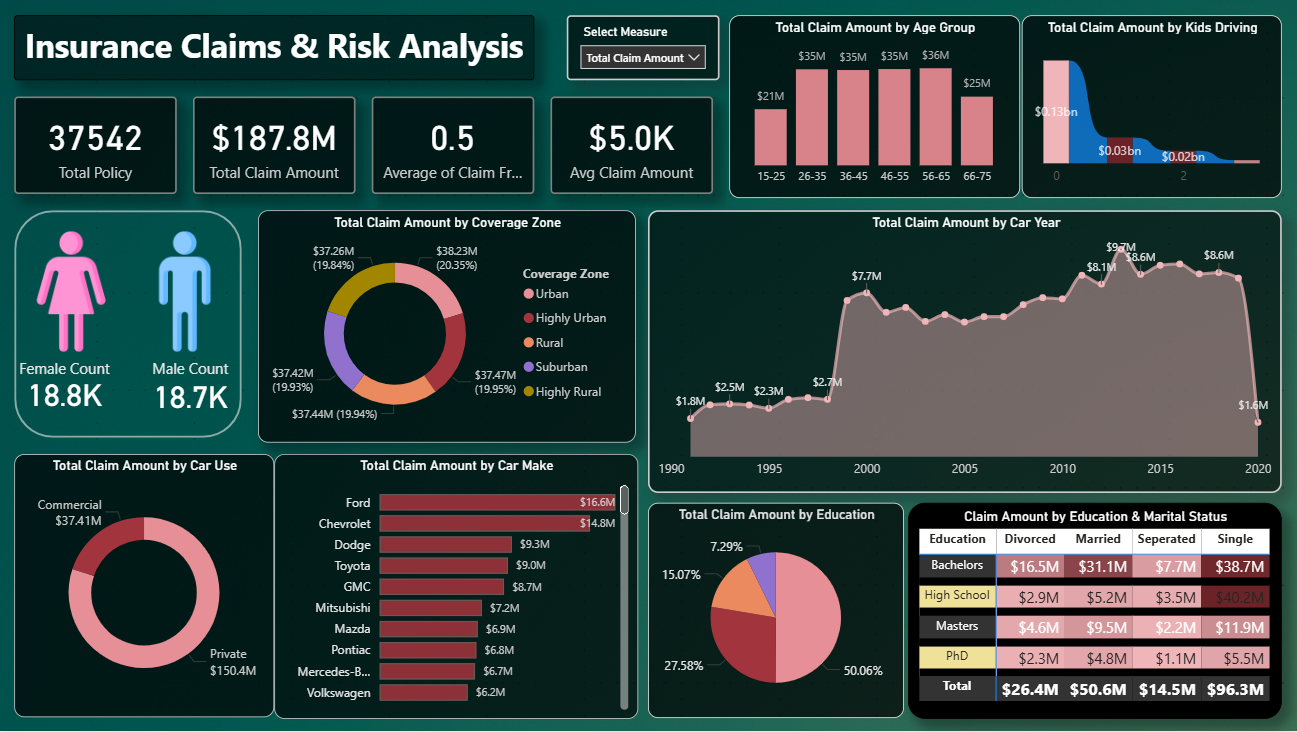

The dashboard page shown, as its layout file describes it:
{"tool":"powerbi","page":{"name":"Page 1","canvas":[1280,720],"ordinal":0},"visuals":[{"type":"textbox","box":[16,16,528,64],"z":0},{"type":"cardVisual","fields":{"Data":["insurance_data_car.Female Count","insurance_data_car.Male Count"]},"box":[0,336,256,80],"z":1000},{"type":"slicer","fields":{"Values":["Select Measure.Select Measure"]},"box":[560,16,150,64],"z":2000},{"type":"donutChart","fields":{"Y":["insurance_data_car.Total Policy"],"Category":["insurance_data_car.Car Use"]},"box":[16,448,256,259],"z":3000},{"type":"clusteredBarChart","fields":{"Y":["insurance_data_car.Total Policy"],"Category":["insurance_data_car.Car Make"]},"box":[272,448,358,261],"z":4000},{"type":"donutChart","fields":{"Y":["insurance_data_car.Total Policy"],"Category":["insurance_data_car.Coverage Zone"]},"box":[256,208,372,229],"z":5000},{"type":"clusteredColumnChart","fields":{"Y":["insurance_data_car.Total Policy"],"Category":["insurance_data_car.Age Group"]},"box":[720,16,286,180],"z":6000},{"type":"ribbonChart","fields":{"Y":["insurance_data_car.Total Policy"],"Category":["insurance_data_car.Kids Driving"]},"box":[1008,16,256,180],"z":7000},{"type":"areaChart","fields":{"Y":["insurance_data_car.Total Policy"],"Category":["insurance_data_car.Car Year"]},"box":[640,208,624,278],"z":8000},{"type":"pieChart","fields":{"Y":["insurance_data_car.Total Policy"],"Category":["insurance_data_car.Education"]},"box":[640,496,252,212],"z":9000},{"type":"pivotTable","title":"Claim Amount by Education & Marital Status","fields":{"Rows":["insurance_data_car.Education"],"Columns":["insurance_data_car.Marital Status"],"Values":["insurance_data_car.Total Claim Amount"]},"box":[896,496,368,213],"z":10000},{"type":"card","title":"Total policy","fields":{"Values":["insurance_data_car.Total Policy"]},"box":[16,96,160,96],"z":11000},{"type":"card","fields":{"Values":["insurance_data_car.Total Claim Amount"]},"box":[192,96,160,96],"z":12000},{"type":"card","title":"Total policy","fields":{"Values":["Avg(insurance_data_car.Claim Freq)"]},"box":[368,96,160,96],"z":13000},{"type":"card","fields":{"Values":["insurance_data_car.Avg Claim Amount"]},"box":[544,96,160,96],"z":14000},{"type":"shape","box":[16,208,224,224],"z":15000},{"type":"image","box":[0,224,144,128],"z":16000},{"type":"image","box":[112,224,144,128],"z":17000}]}

Visuals, with their boxes in screenshot pixels (x1, y1, x2, y2), scaled from the page's 1280x720 canvas onto the 1297x732 screenshot:
textbox: <region>16, 16, 551, 81</region>
cardVisual - insurance_data_car.Female Count x insurance_data_car.Male Count: <region>0, 342, 259, 423</region>
slicer - Select Measure.Select Measure: <region>567, 16, 719, 81</region>
donutChart - insurance_data_car.Total Policy x insurance_data_car.Car Use: <region>16, 455, 276, 719</region>
clusteredBarChart - insurance_data_car.Total Policy x insurance_data_car.Car Make: <region>276, 455, 638, 721</region>
donutChart - insurance_data_car.Total Policy x insurance_data_car.Coverage Zone: <region>259, 211, 636, 444</region>
clusteredColumnChart - insurance_data_car.Total Policy x insurance_data_car.Age Group: <region>730, 16, 1019, 199</region>
ribbonChart - insurance_data_car.Total Policy x insurance_data_car.Kids Driving: <region>1021, 16, 1281, 199</region>
areaChart - insurance_data_car.Total Policy x insurance_data_car.Car Year: <region>648, 211, 1281, 494</region>
pieChart - insurance_data_car.Total Policy x insurance_data_car.Education: <region>648, 504, 904, 720</region>
"Claim Amount by Education & Marital Status" pivotTable: <region>908, 504, 1281, 721</region>
"Total policy" card: <region>16, 98, 178, 195</region>
card - insurance_data_car.Total Claim Amount: <region>195, 98, 357, 195</region>
"Total policy" card: <region>373, 98, 535, 195</region>
card - insurance_data_car.Avg Claim Amount: <region>551, 98, 713, 195</region>
shape: <region>16, 211, 243, 439</region>
image: <region>0, 228, 146, 358</region>
image: <region>113, 228, 259, 358</region>
